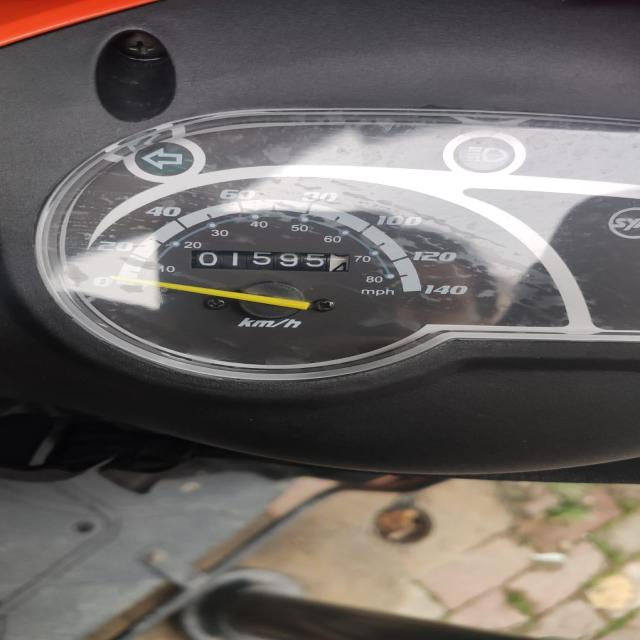odometer: (188, 248, 354, 274)
